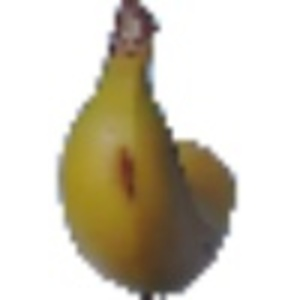banana: (43, 5, 245, 291)
